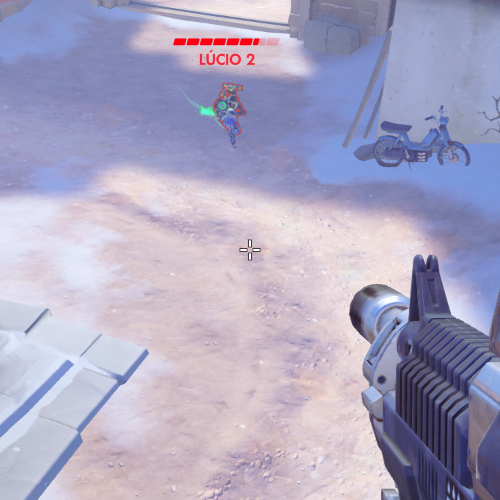hpbar: (173, 38, 280, 46)
